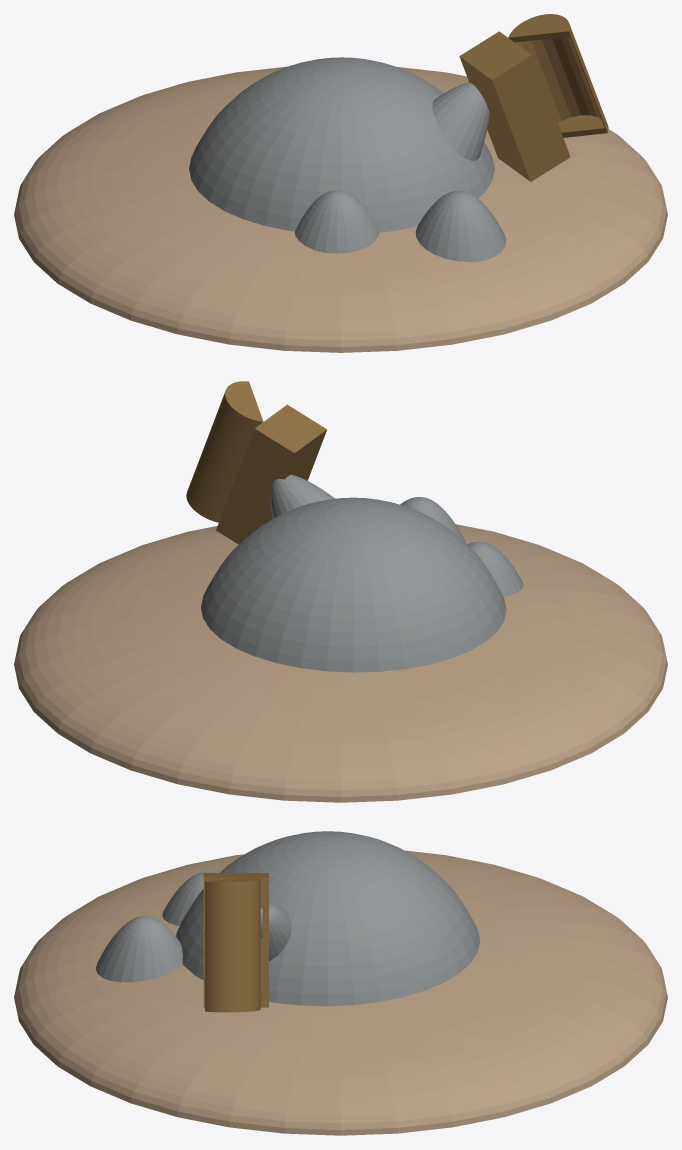
Rendered from sea floor.glb.
3 views of the same model, one above another, from view 1: azimuth 30°, elevation 25°; view 2: azimuth 150°, elevation 25°; view 3: azimuth 270°, elevation 25° (orthographic).
Visible parts, largest first — view 1: Mesh_Mesh_head_geo.001_lambert2SG.001; view 2: Mesh_Mesh_head_geo.001_lambert2SG.001; view 3: Mesh_Mesh_head_geo.001_lambert2SG.001.
Boxes of the visible parts, <box> form: Mesh_Mesh_head_geo.001_lambert2SG.001: <box>14,14,667,352</box>; Mesh_Mesh_head_geo.001_lambert2SG.001: <box>14,381,667,802</box>; Mesh_Mesh_head_geo.001_lambert2SG.001: <box>14,831,667,1135</box>.
Size of the model in its own units: 200 by 66.56 by 200.
